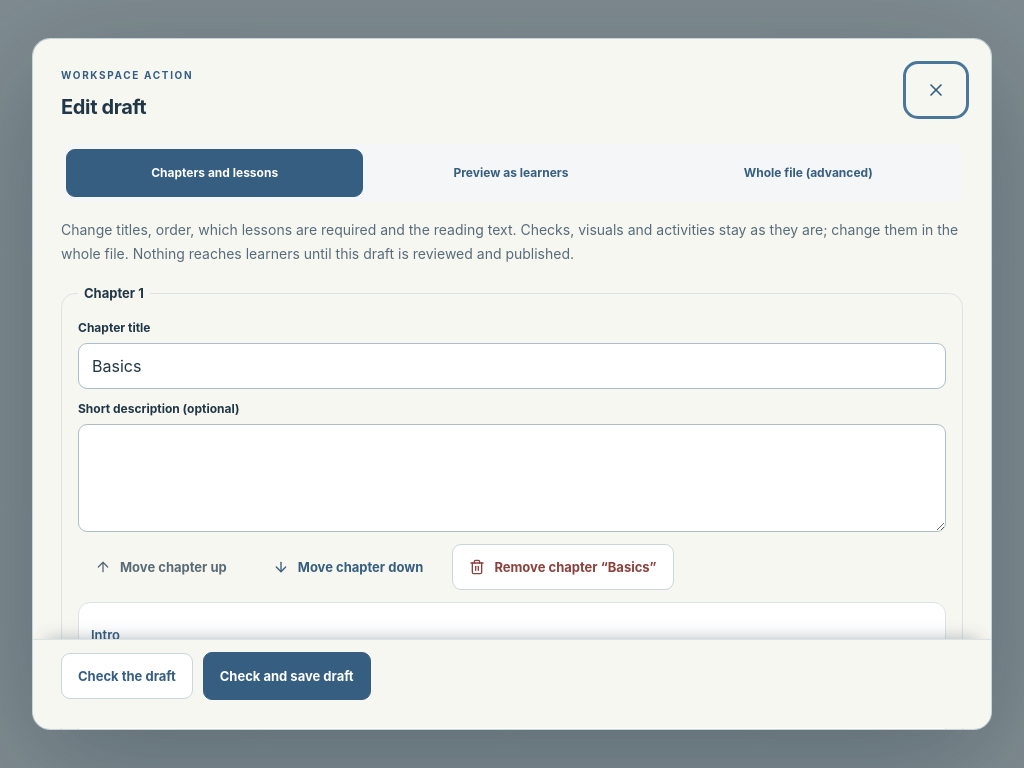
Test: structured draft editor › blocks saving locally when a lesson loses every objective
What coordinates should you click on to do the following:
click the heading "Intro"
I would click on:
 (105, 635)
Its box is [91,627,120,643].
(page scrolled)
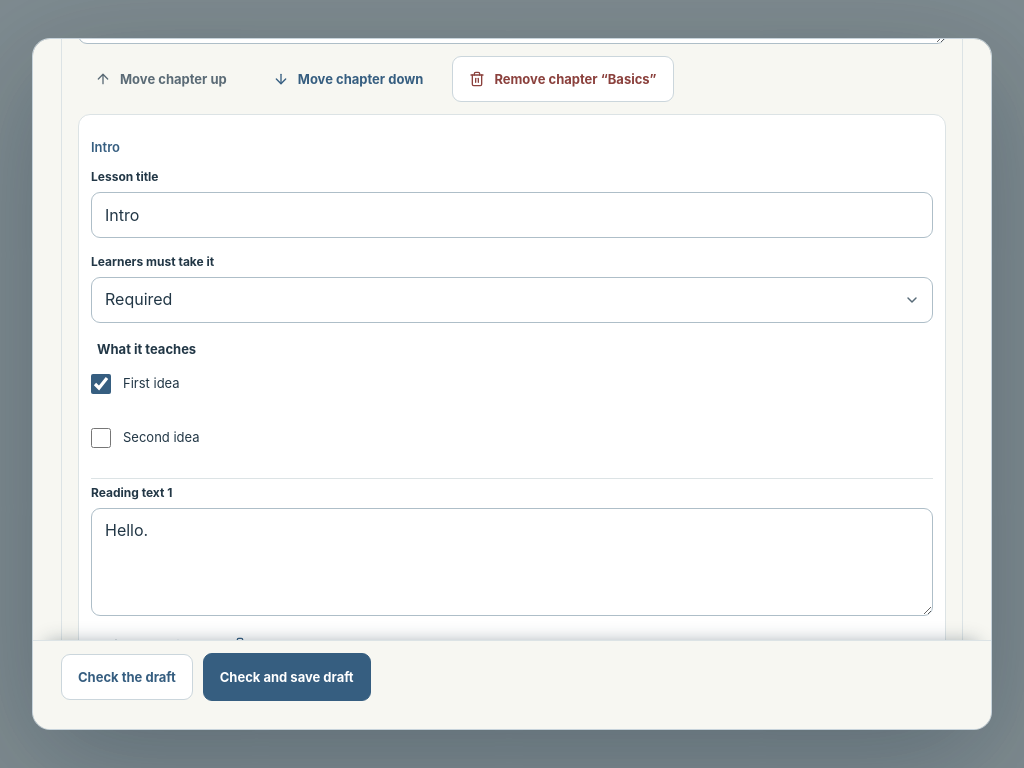
What coordinates should you click on to do the following:
click the checkbox labelled "First idea"
I would click on:
 (101, 384)
Its box is [91,374,111,394].
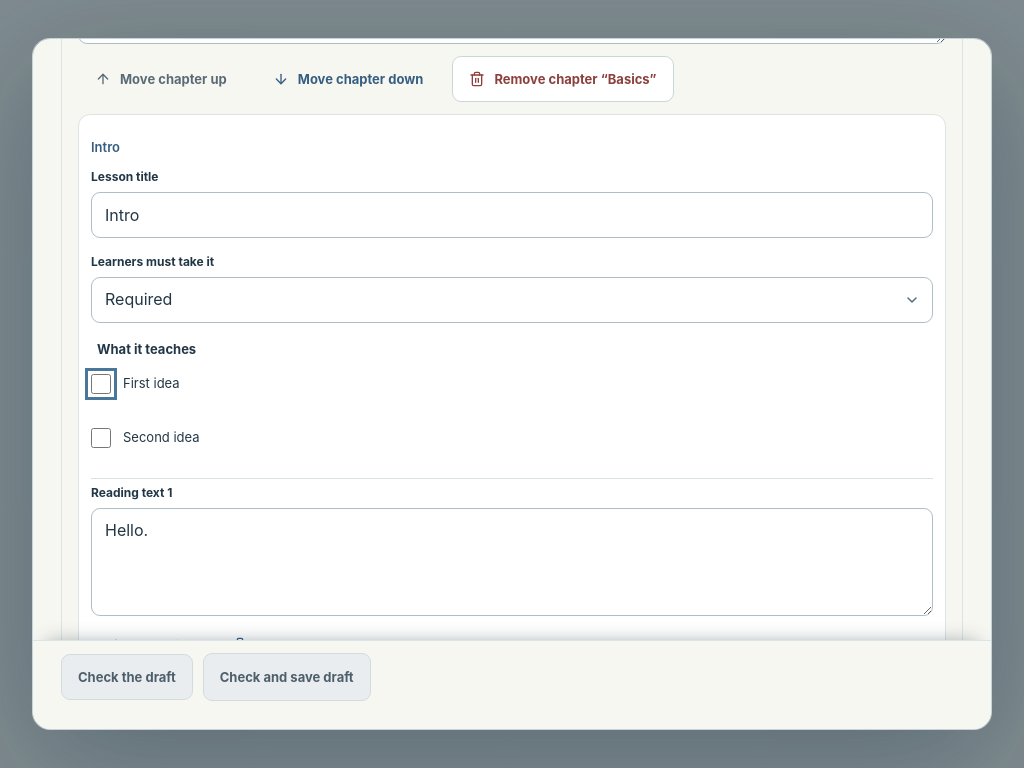
Result: the button "Check and save draft" is disabled at [203,653,371,701]
